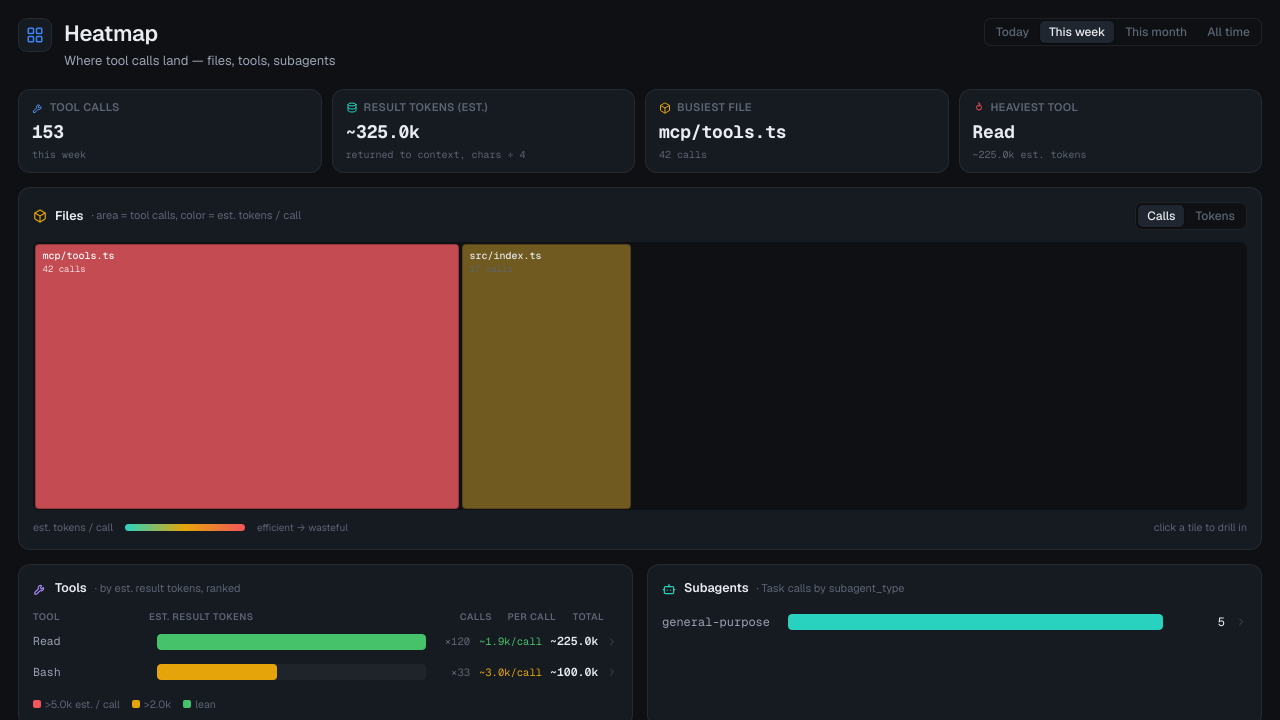
it: HeatmapPage (REQ-DESKTOP-024) › drills into a file via /api/claude/heatmap/file
This screenshot has width=1280, height=720.
Check: the text "153" is shown, box [32,120,64,143]
Click the text "mcp/tools.ts" next to "src/index.ts": point(78, 255) [42,249,114,262]
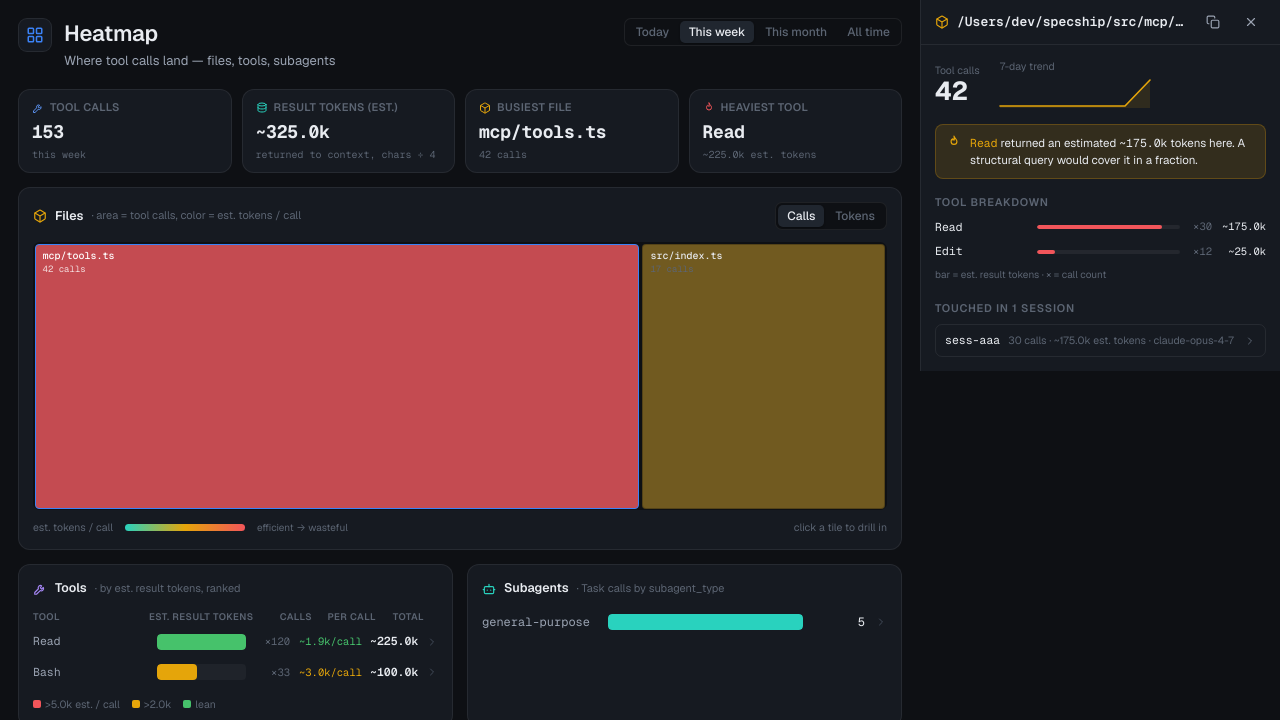
Check: the text "Tool breakdown" is shown, box [935,195,1049,209]
Check: the text "Touched in 1 session" is shown, box [935,300,1075,314]
